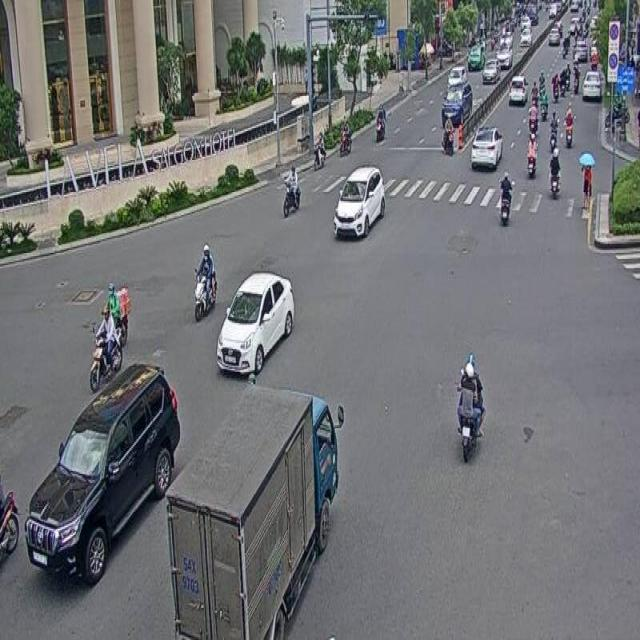car: (216, 267, 295, 376), (333, 166, 385, 241)
motorcycle: (26, 361, 183, 593), (455, 348, 484, 463), (89, 306, 123, 390), (192, 240, 218, 322), (283, 164, 301, 215)
truck: (164, 373, 346, 640)
